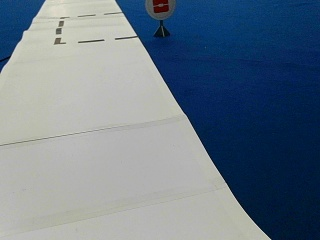company: (145, 0, 175, 20)
